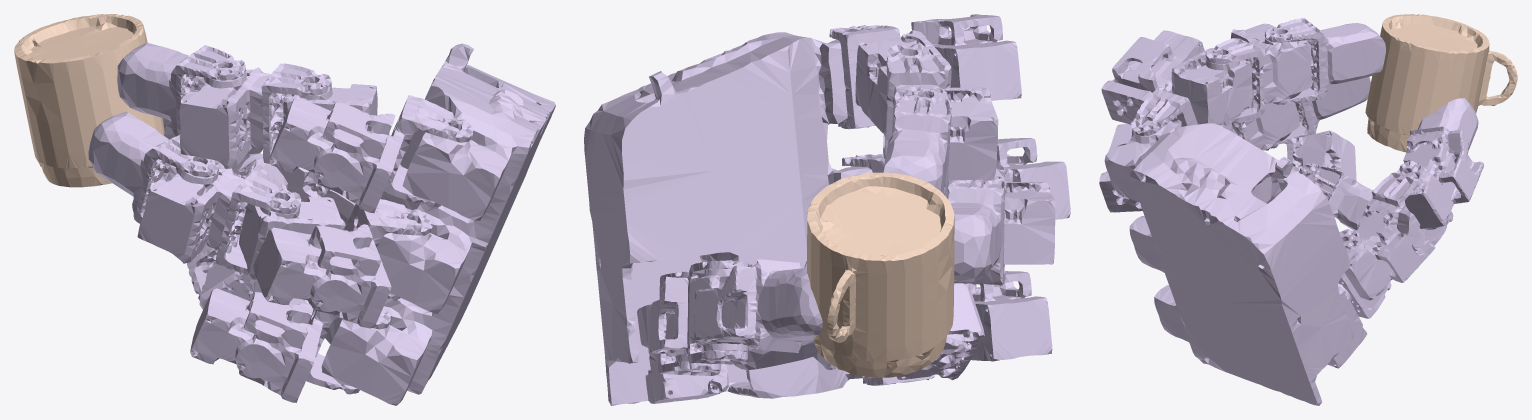
File: 24f60d7734a894-closed.glb
The picture shows the model from 3 angles, left to right: view 1: azimuth 30°, elevation 25°; view 2: azimuth 150°, elevation 25°; view 3: azimuth 270°, elevation 25°; orthographic projection. The views are drawn at different scales.
Visible parts, largest first — view 1: LEAP_hand, world; view 2: LEAP_hand, world; view 3: LEAP_hand, world.
Boxes of the visible parts, left/top/right/bottom form: LEAP_hand: left=88, top=42, right=555, bottom=405; world: left=14, top=14, right=164, bottom=187; LEAP_hand: left=584, top=14, right=1070, bottom=405; world: left=807, top=172, right=954, bottom=377; LEAP_hand: left=1099, top=18, right=1483, bottom=405; world: left=1365, top=14, right=1517, bottom=152.
Bounding box in the file's own units: 0.1926 × 0.1443 × 0.1979.
